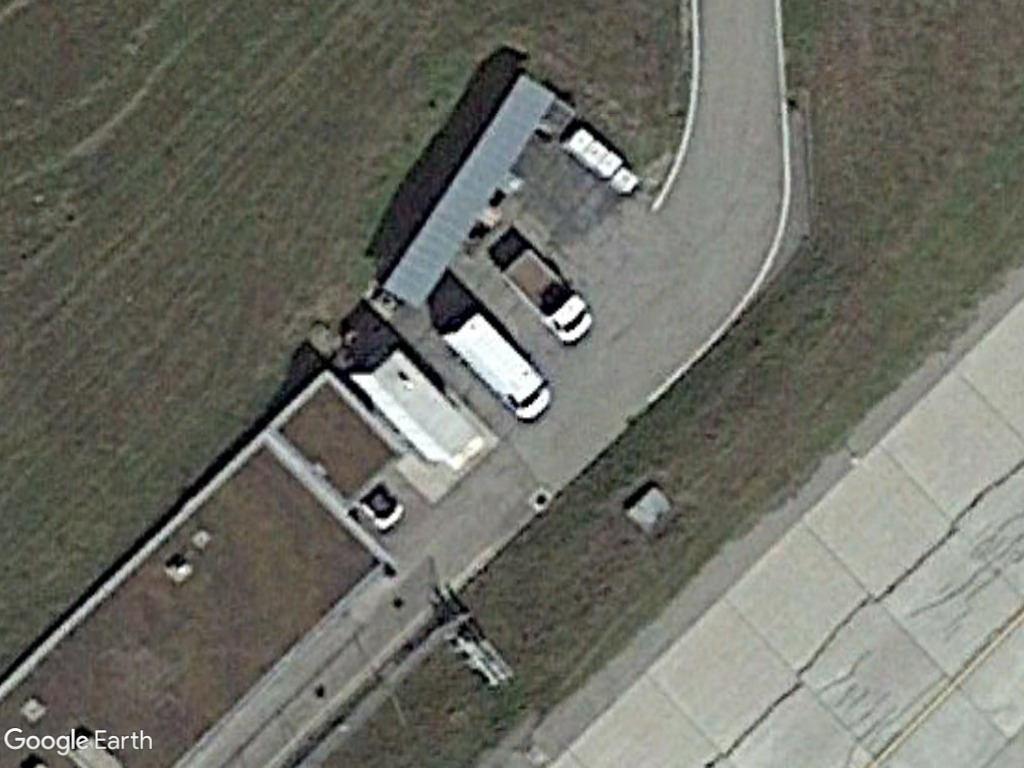others: (498, 245, 594, 345)
van: (441, 304, 554, 427)
